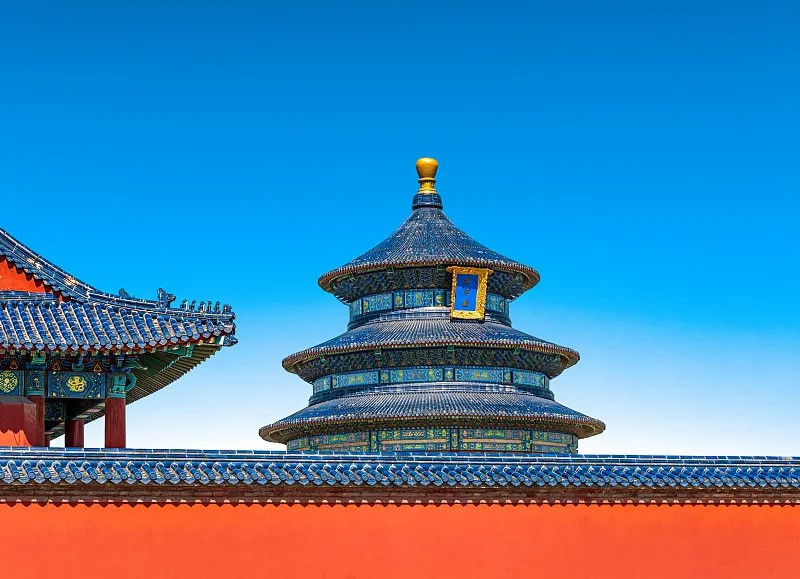Heaven: (259, 157, 606, 453)
